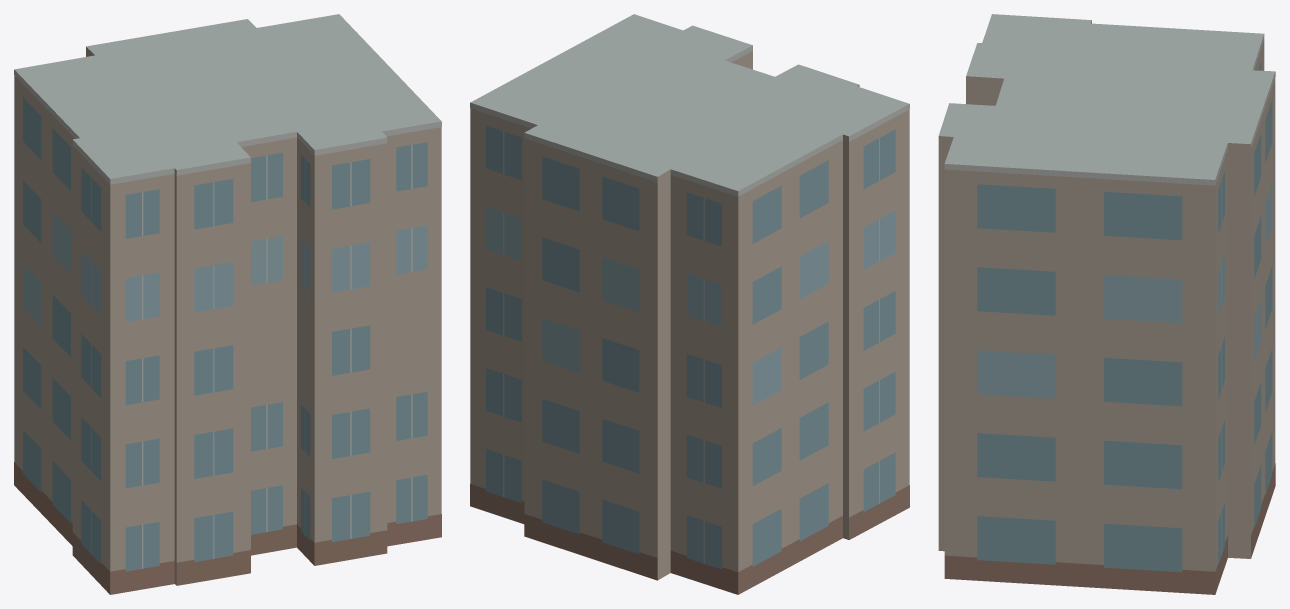
File: survey-upis-32794171.glb
The picture shows the model from 3 angles, left to right: view 1: azimuth 30°, elevation 25°; view 2: azimuth 150°, elevation 25°; view 3: azimuth 270°, elevation 25°; orthographic projection. The views are drawn at different scales.
Visible parts, largest first — view 1: survey-upis-32794171.tmp; view 2: survey-upis-32794171.tmp; view 3: survey-upis-32794171.tmp.
Part boxes in pixels (x1,y1,x2,y2): survey-upis-32794171.tmp: (14, 14, 441, 594); survey-upis-32794171.tmp: (470, 14, 909, 594); survey-upis-32794171.tmp: (938, 14, 1275, 594).
Bounding box in the file's own units: 15.28 × 17.8 × 13.11.
